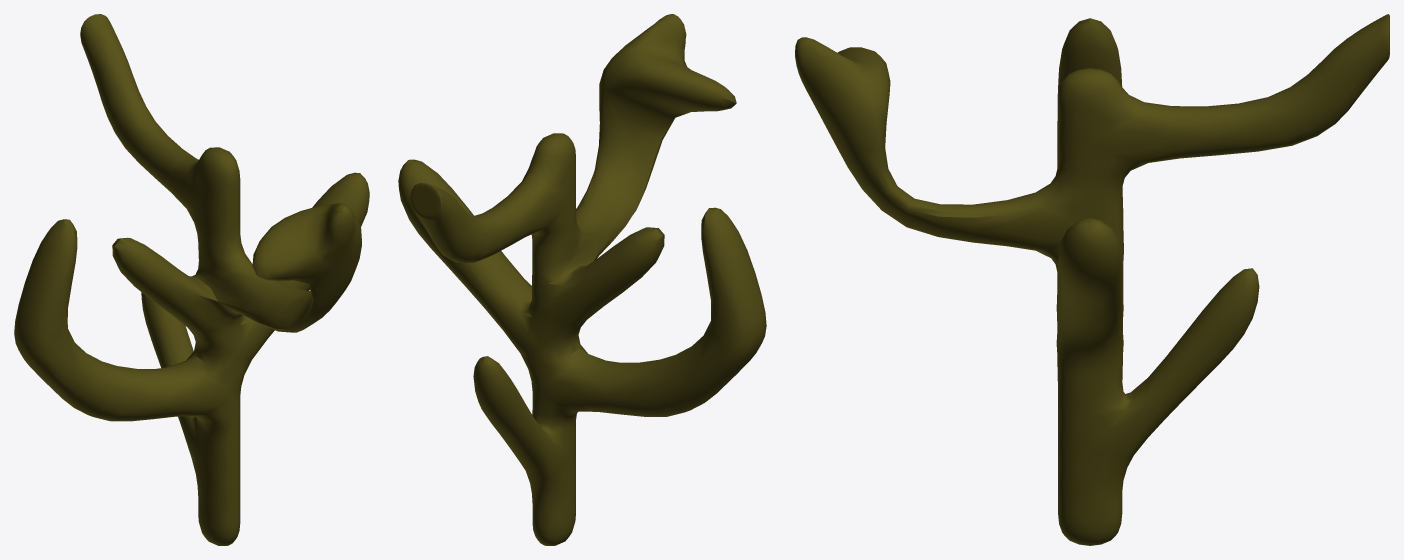
Rendered from Dead Tree 9.fbx.
3 renders of one model, left to right at view 1: azimuth 30°, elevation 25°; view 2: azimuth 150°, elevation 25°; view 3: azimuth 270°, elevation 25°, orthographic. The views are drawn at different scales.
Parts seen in each view (by area): view 1: Cube; view 2: Cube; view 3: Cube.
Boxes of the visible parts, x1,y1,x2,y2 form: Cube: (14, 14, 369, 545); Cube: (398, 14, 766, 545); Cube: (795, 14, 1389, 545).
Size of the model in its own units: 235 by 284 by 290.
